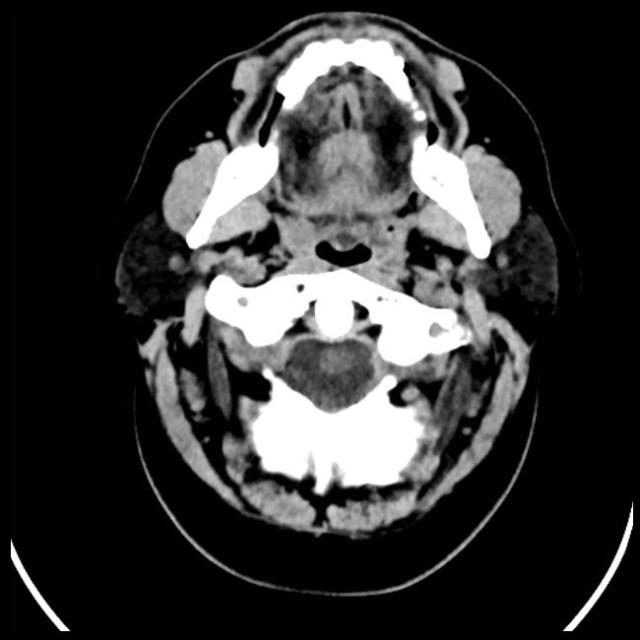lesion: (111, 11, 563, 544)
